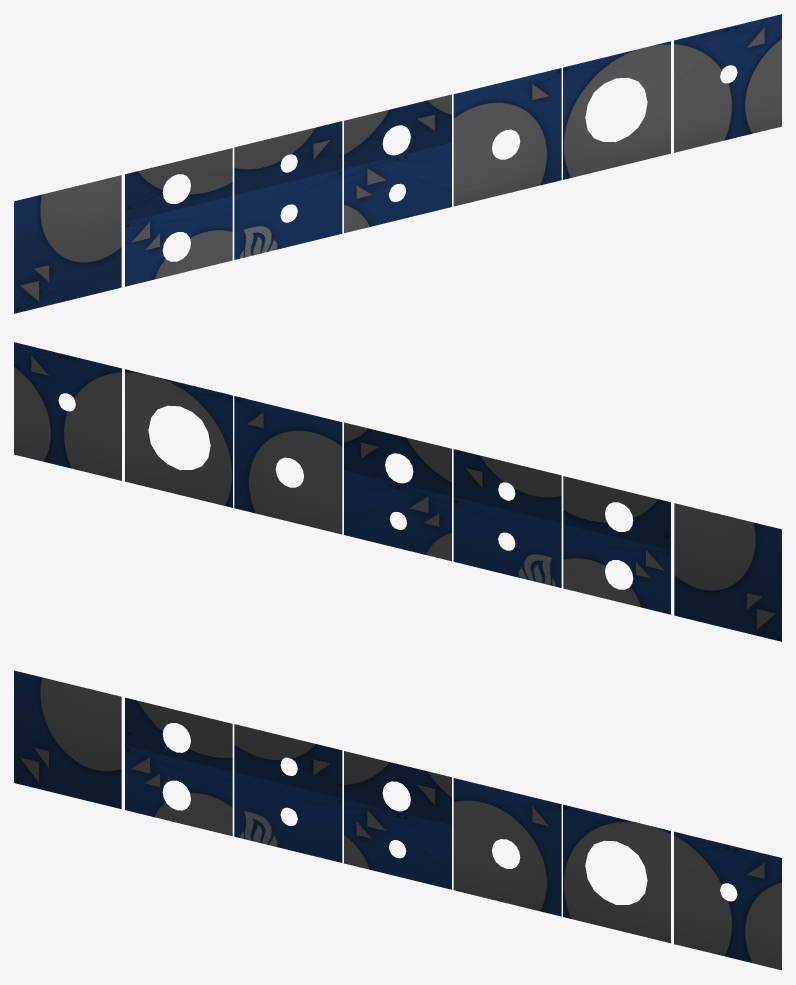
File: BullSheetOld.FBX
3 renders of one model, top to bottom at view 1: azimuth 30°, elevation 25°; view 2: azimuth 150°, elevation 25°; view 3: azimuth 330°, elevation 25°, orthographic.
Visible parts, largest first — view 1: Blank, S, SS, M, MS, MM, L; view 2: Blank, S, SS, M, MS, MM, L; view 3: Blank, S, SS, M, MS, MM, L.
Boxes of the visible parts, <box> form: Blank: <box>14,175,121,313</box>; S: <box>674,14,781,152</box>; SS: <box>234,121,342,259</box>; M: <box>453,68,561,206</box>; MS: <box>344,94,451,233</box>; MM: <box>125,148,232,286</box>; L: <box>563,41,670,179</box>; Blank: <box>674,503,781,641</box>; S: <box>14,342,121,480</box>; SS: <box>453,449,561,587</box>; M: <box>234,396,342,534</box>; MS: <box>344,422,451,561</box>; MM: <box>563,476,670,614</box>; L: <box>125,369,232,507</box>; Blank: <box>14,670,121,808</box>; S: <box>674,831,781,970</box>; SS: <box>234,724,342,862</box>; M: <box>453,778,561,916</box>; MS: <box>344,751,451,889</box>; MM: <box>125,697,232,836</box>; L: <box>563,804,670,943</box>.
Size of the model in its own units: 1698 by 238 by 0.1406.
